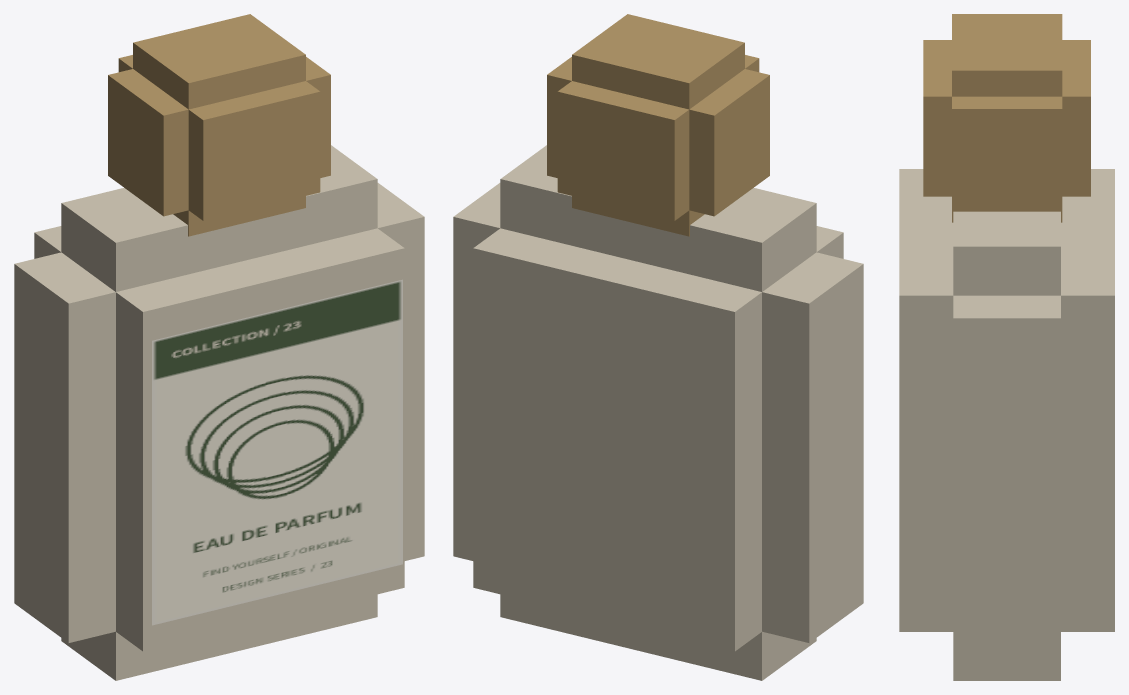
The model's file is sku_v23_perfume.glb.
3 views of the same model, side by side, from view 1: azimuth 30°, elevation 25°; view 2: azimuth 150°, elevation 25°; view 3: azimuth 270°, elevation 25° (orthographic).
Visible parts, largest first — view 1: sku_v23_perfume_V23_natural_canvas, sku_v23_perfume_V23_original_editorial, sku_v23_perfume_V23_satin_brass; view 2: sku_v23_perfume_V23_natural_canvas, sku_v23_perfume_V23_satin_brass; view 3: sku_v23_perfume_V23_natural_canvas, sku_v23_perfume_V23_satin_brass.
Boxes of the visible parts, x1=… form: sku_v23_perfume_V23_natural_canvas: x1=14, y1=145, x2=424, y2=680; sku_v23_perfume_V23_original_editorial: x1=152, y1=279, x2=402, y2=625; sku_v23_perfume_V23_satin_brass: x1=108, y1=14, x2=330, y2=236; sku_v23_perfume_V23_natural_canvas: x1=453, y1=145, x2=863, y2=680; sku_v23_perfume_V23_satin_brass: x1=547, y1=14, x2=769, y2=236; sku_v23_perfume_V23_natural_canvas: x1=899, y1=169, x2=1114, y2=680; sku_v23_perfume_V23_satin_brass: x1=923, y1=14, x2=1090, y2=222.
Size of the model in its own units: 0.085 by 0.1325 by 0.0465.
Materials: 3 (1 with a texture image).
